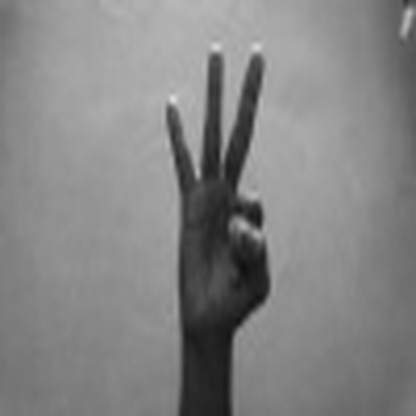f: (152, 38, 288, 330)
